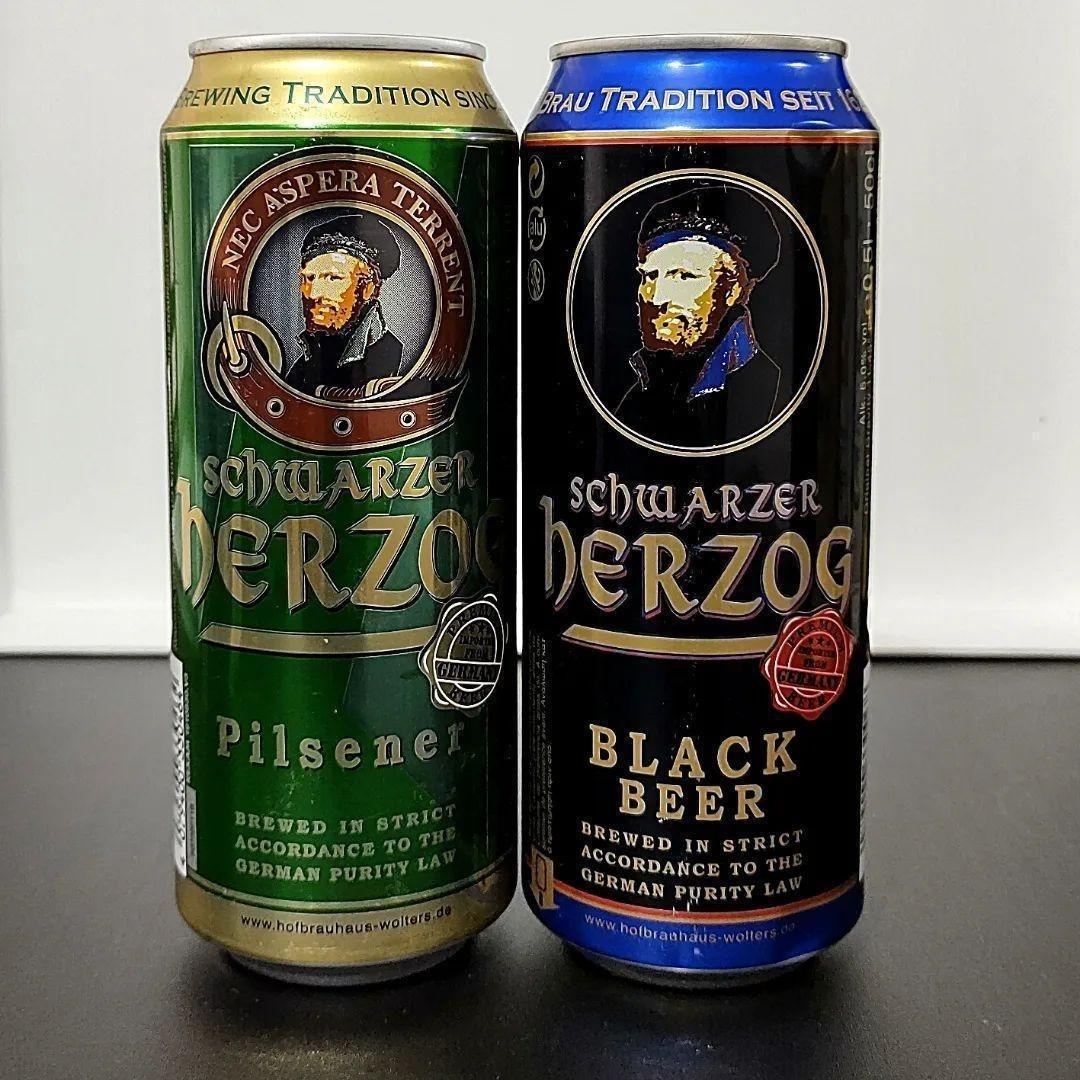tin can: (141, 21, 522, 1004), (515, 20, 895, 993)
